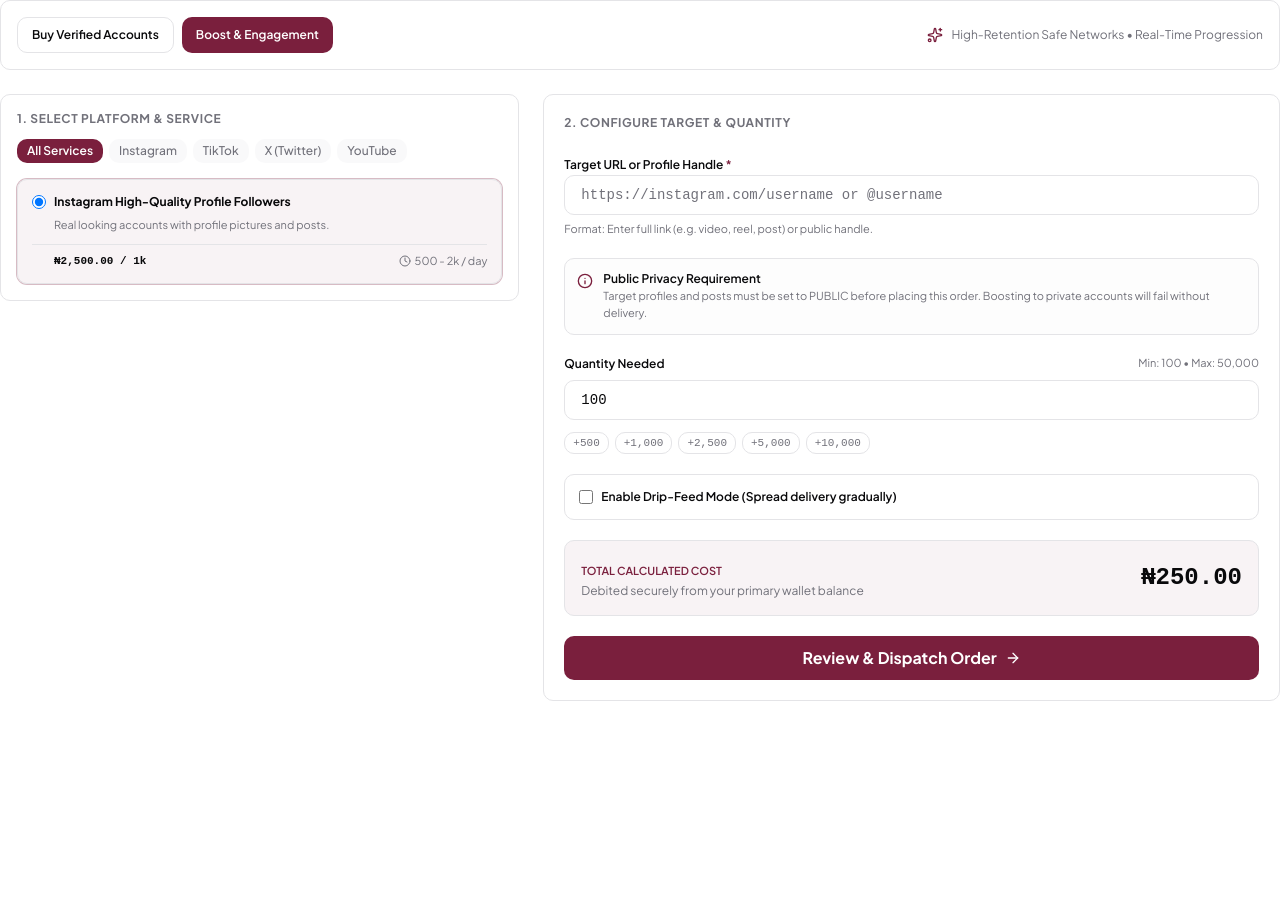
Test: BoostAccountView Component (F19.2) › validates target link format before opening confirmation
Expected: the text "Instagram High-Quality Profile Followers" is shown, [54, 194, 291, 210]
Click the button with test id "submit-boost-order-button".
click(912, 658)  # box [564, 636, 1259, 680]
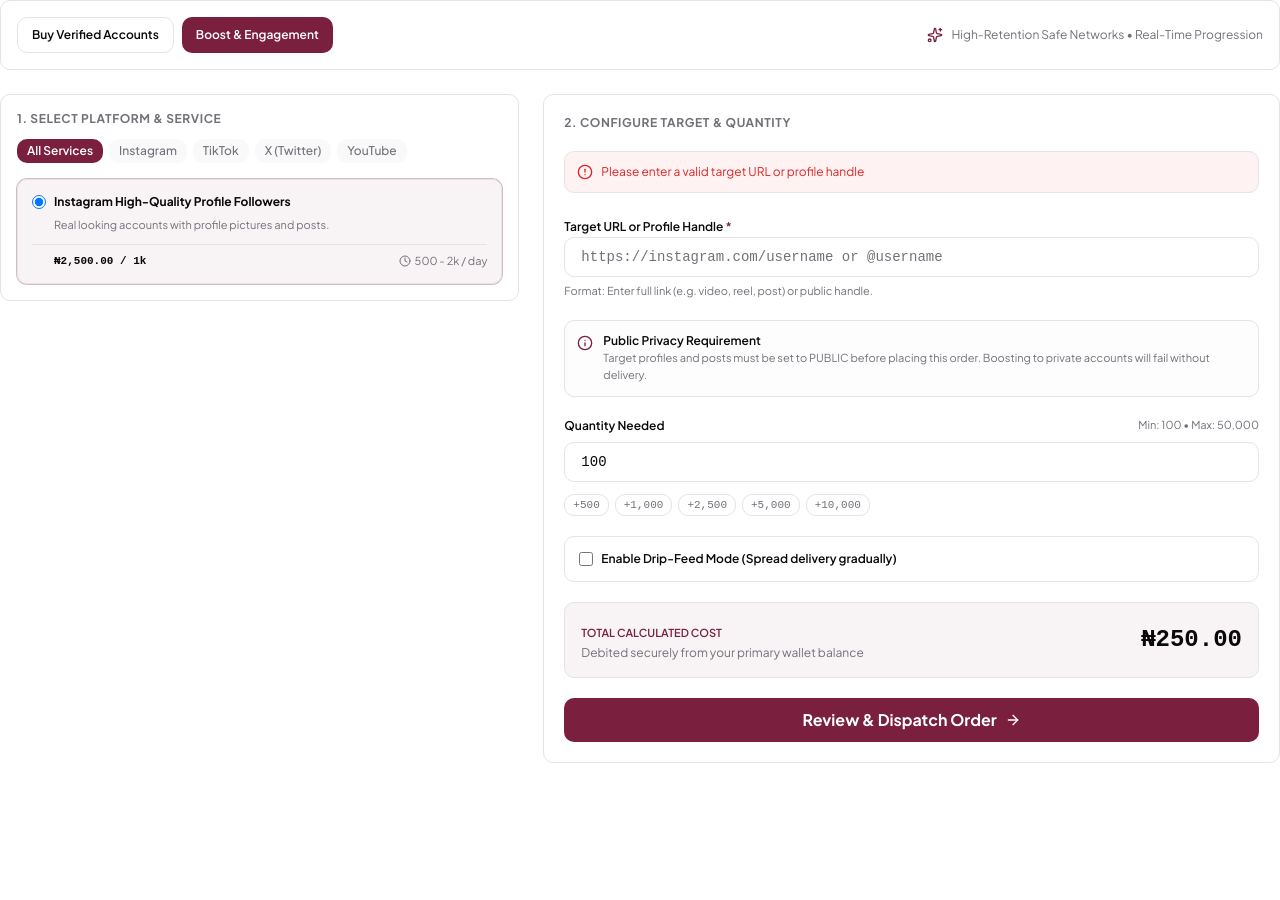
Now the text "Please enter a valid target URL or profile handle" is shown, box [601, 164, 864, 180]
